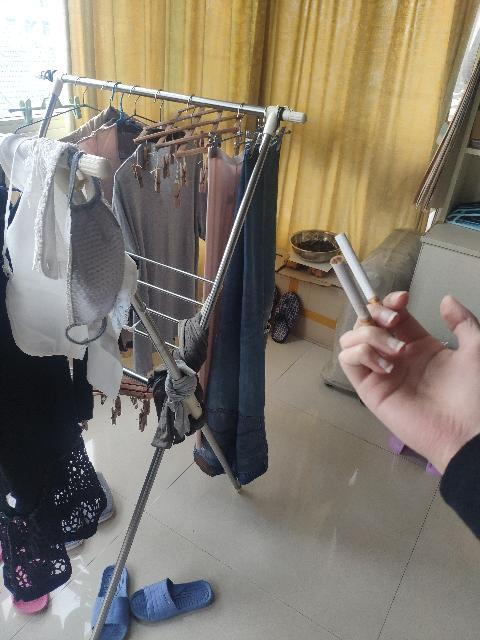Smoking: (335, 232, 389, 324), (331, 255, 381, 341)
